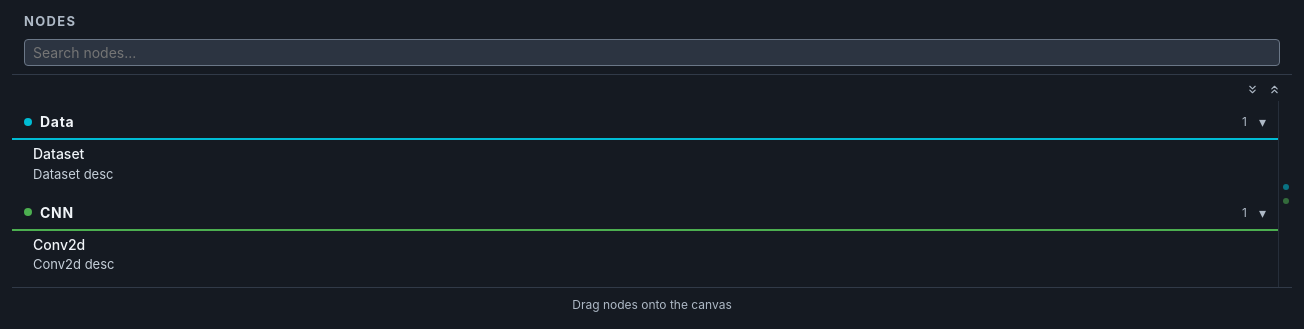
Test: NodesTab › collapses and expands every category at once
expect the text "Conv2d" is shown: met, box [33, 236, 85, 253]
expect the text "Dataset" is shown: met, box [33, 145, 84, 162]
Step 1. Click the button named "Collapse all" → (1274, 89), box [1264, 79, 1284, 99]
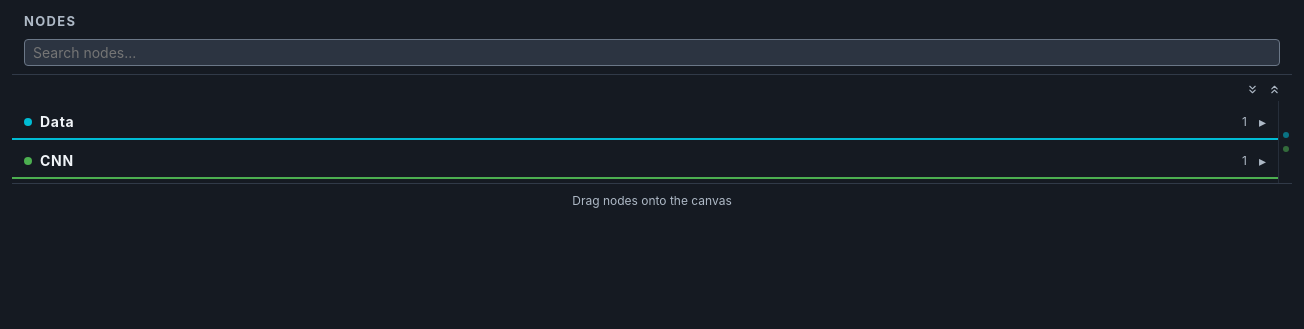
expect the text "Conv2d" is gone: met
expect the text "Dataset" is gone: met
Step 2. Click the button named "Expand all" → (1252, 89), box [1242, 79, 1262, 99]
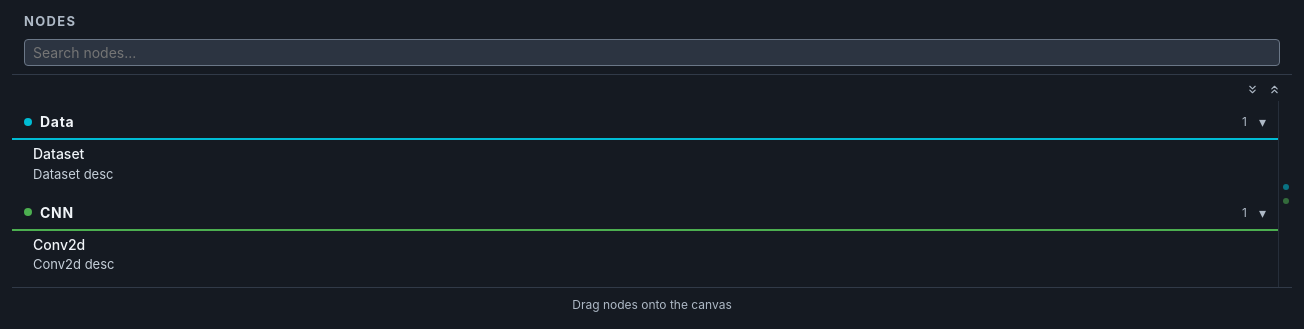
expect the text "Conv2d" is shown: met, box [33, 236, 85, 253]
expect the text "Dataset" is shown: met, box [33, 145, 84, 162]
